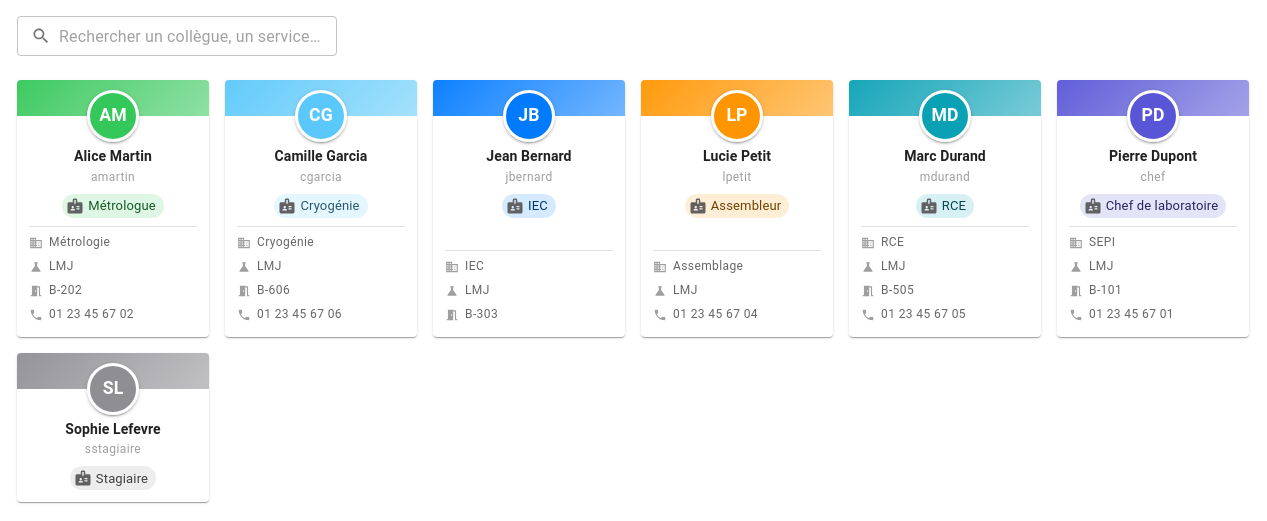
Test: EquipeAnnuairePage › filtre le personnel via la recherche plein-texte
Expected: the heading "Pierre Dupont" is shown, x1=1109 y1=148 x2=1197 y2=164
Type "Alice" into the element named "Rechercher un membre du personnel" at [177, 36], box x1=17 y1=16 x2=337 y2=56
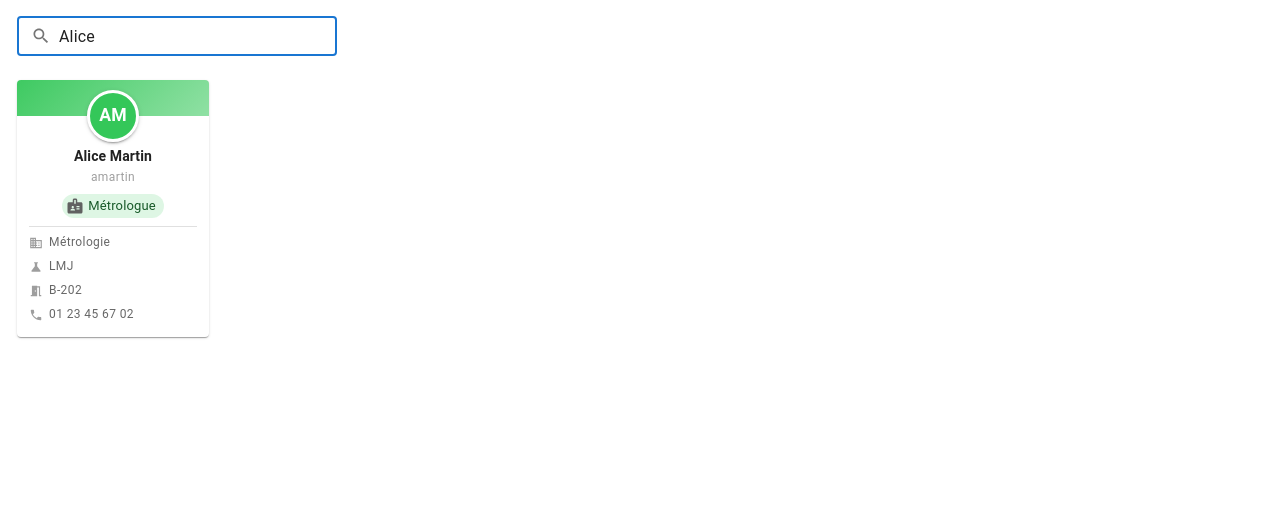
Expected: the heading "Alice Martin" is shown, x1=74 y1=148 x2=152 y2=164
Now the heading "Pierre Dupont" is gone
